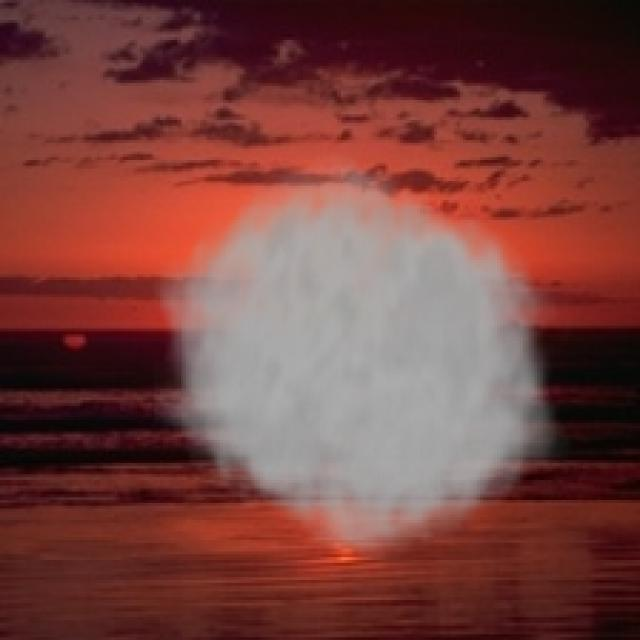smoke: (155, 146, 574, 568)
